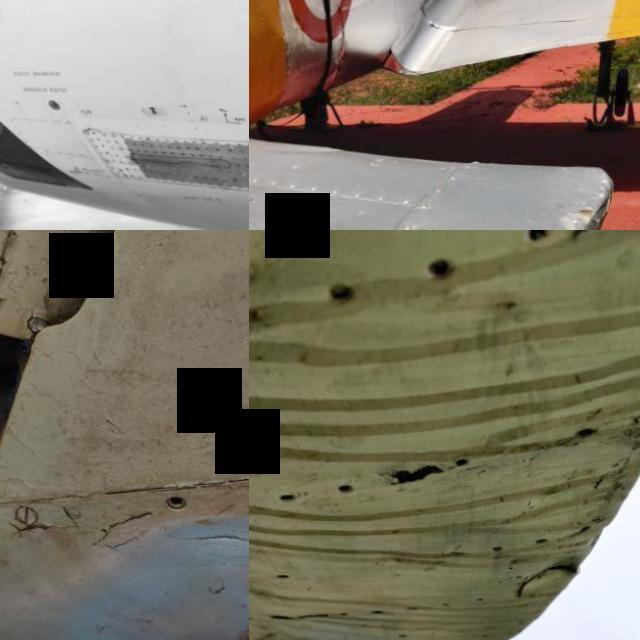Crack: (366, 442, 479, 506)
Missing_Fastener: (156, 477, 202, 524)
